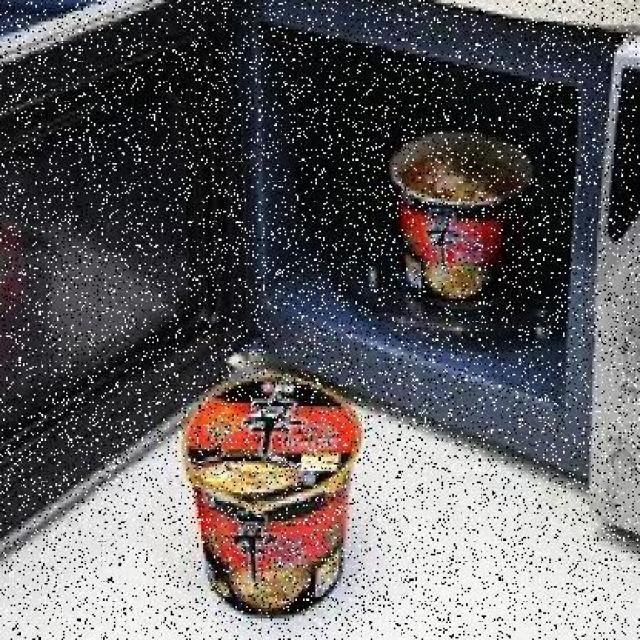Miscellaneous: (172, 375, 374, 628), (384, 129, 566, 337)
